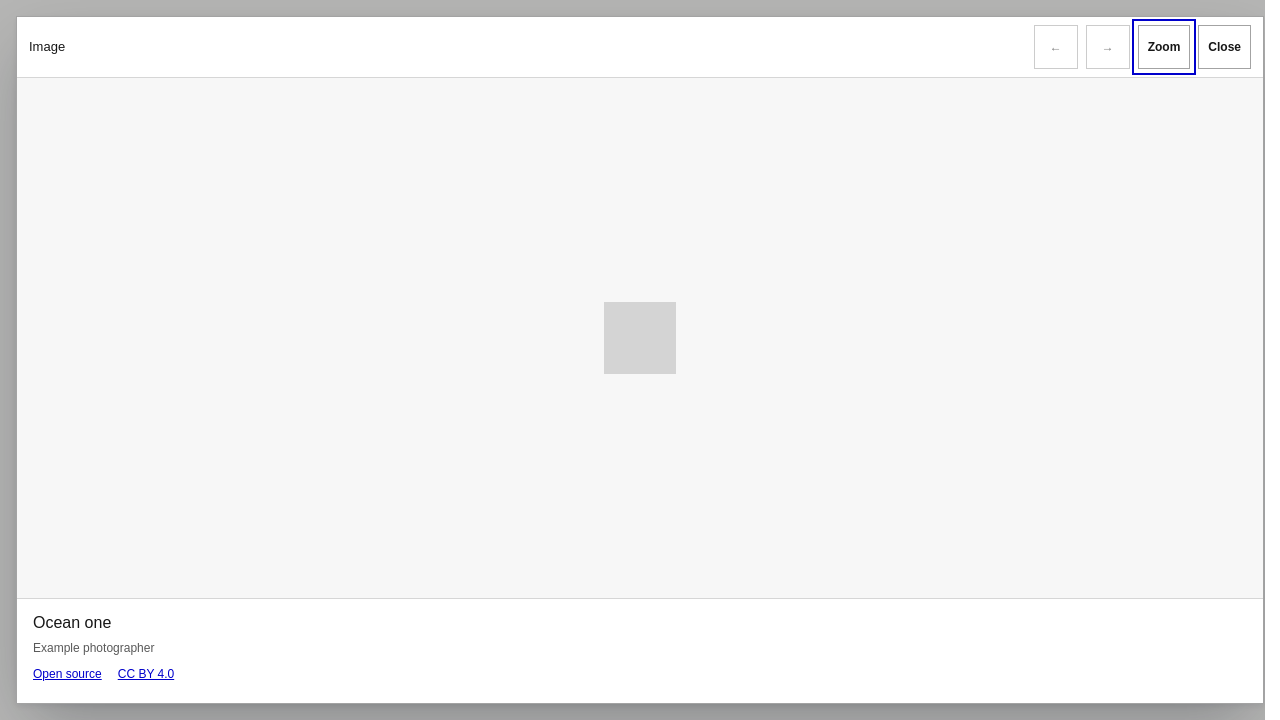
Test case: media viewers › opens images through the proxy, zooms and keeps a bounded preview when the original fails
Later steps or results of the test are not shown.
Click the button "Zoom" at (1164, 47), box [1138,25,1190,69]
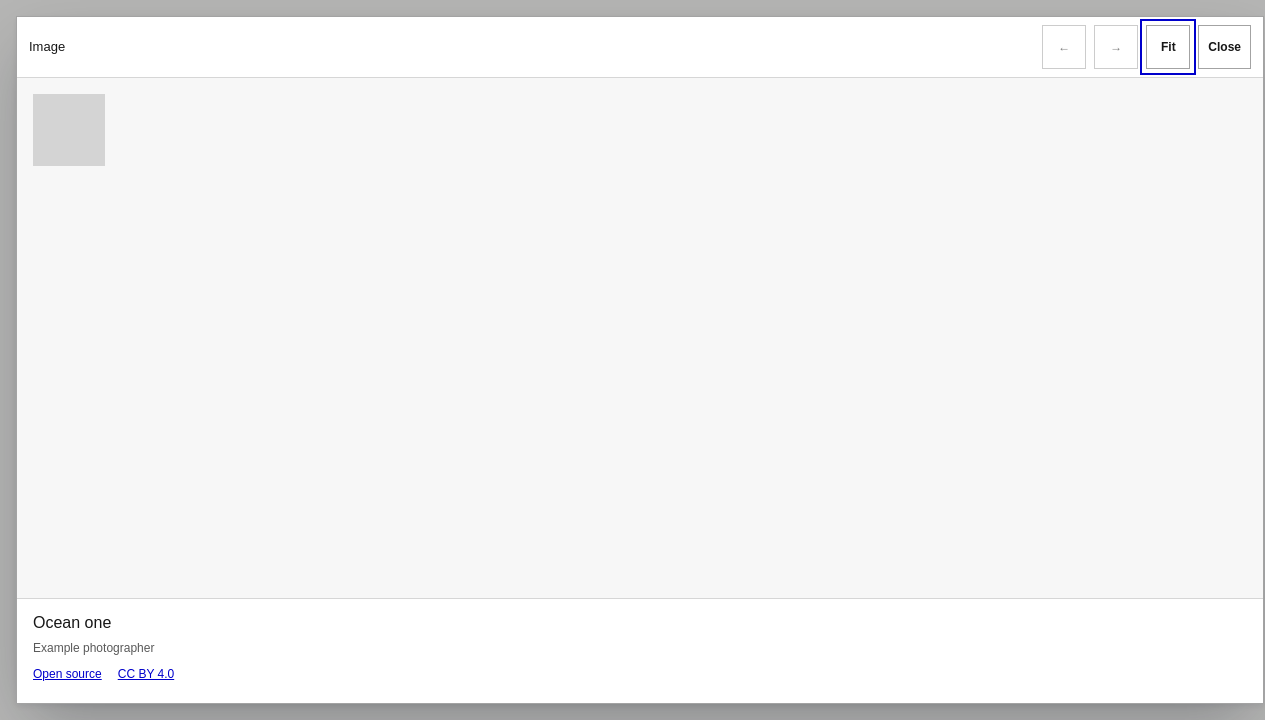
Now the element with class "zoomed" is shown
